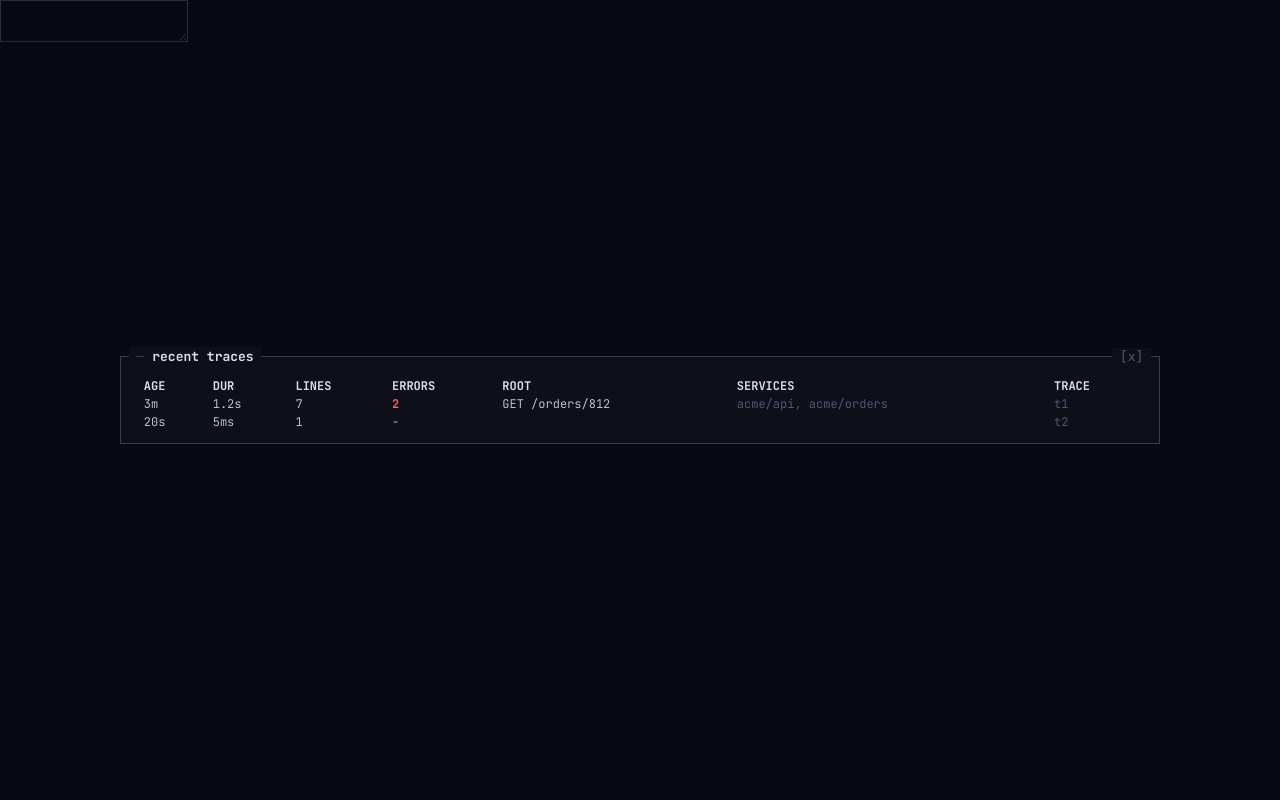
Test: ShellTraceModal trace list › opens a trace on click and returns on Back
Step 1. Click the row with test id "shell-trace-list-row-t1" → (556, 404), box [137,395,1143,413]
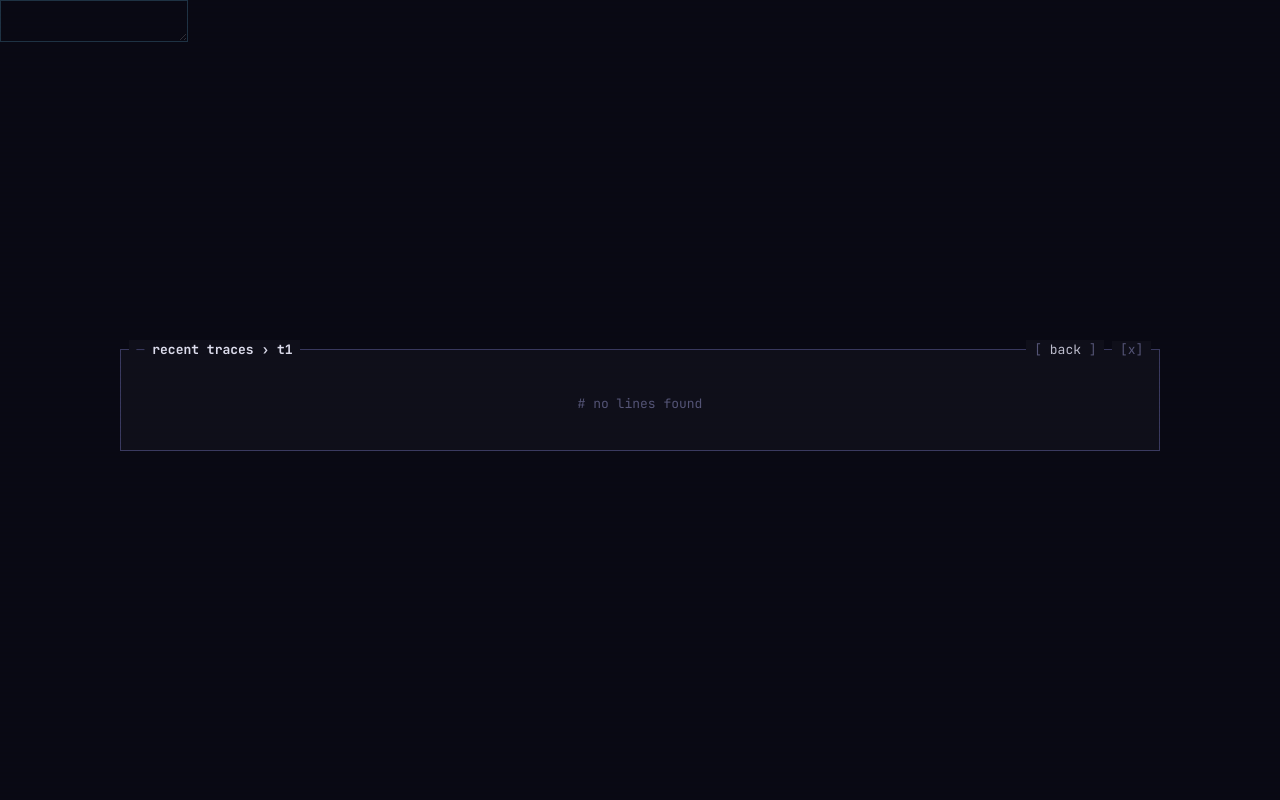
expect the table with test id "shell-trace-list-table" is gone: met
expect the heading shows "t1": met, box [152,341,293,358]
Step 2. Click the button with test id "shell-trace-modal-back-button" → (1065, 350), box [1026,340,1104,359]
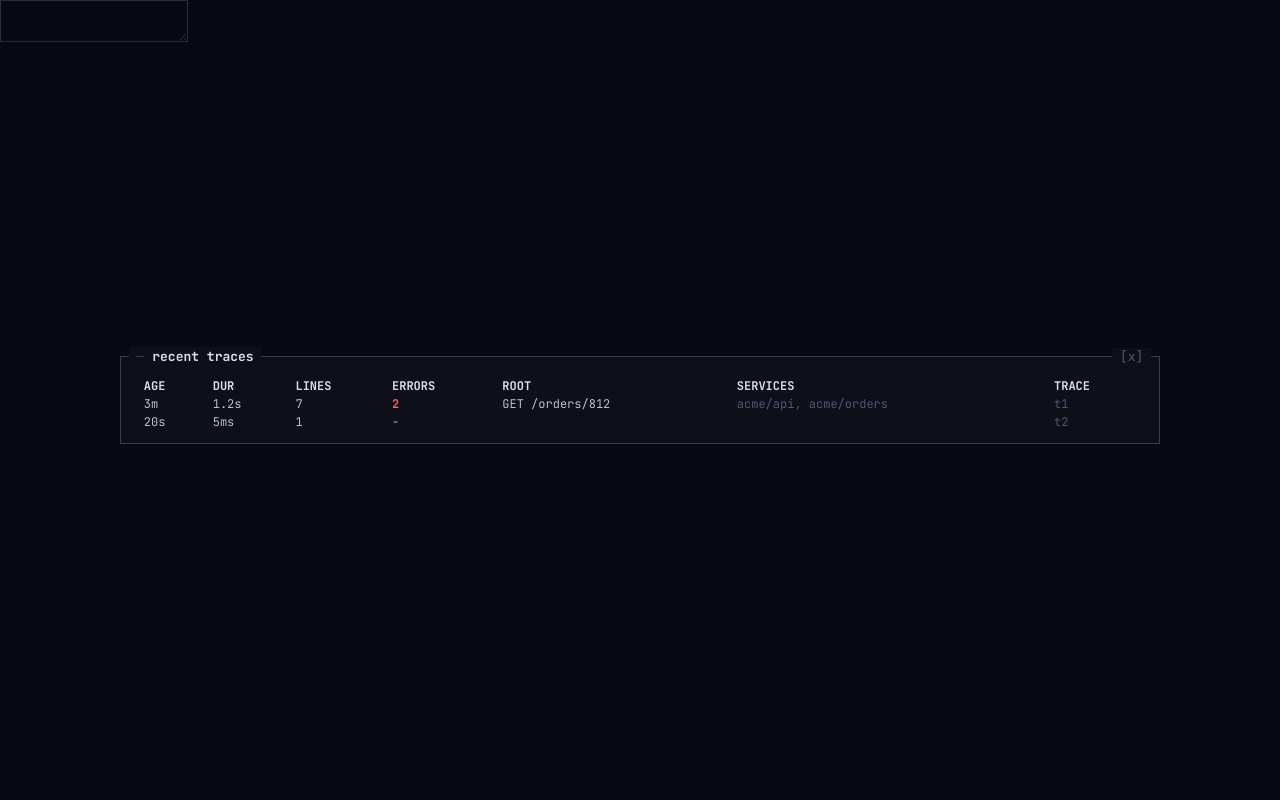
expect the table with test id "shell-trace-list-table" is shown: met, box [137,377,1143,431]
